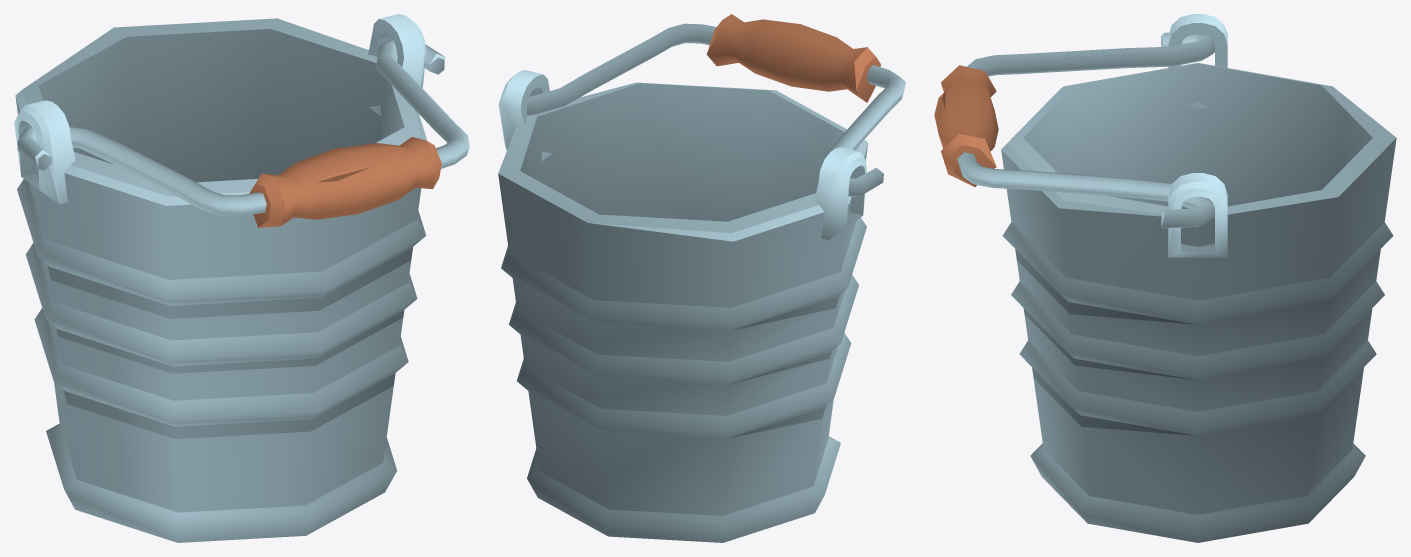
The model's file is bucket.glb.
3 renders of one model, left to right at view 1: azimuth 30°, elevation 25°; view 2: azimuth 150°, elevation 25°; view 3: azimuth 270°, elevation 25°, orthographic. The views are drawn at different scales.
Visible parts, largest first — view 1: bucket, BézierCurve.001; view 2: bucket, BézierCurve.001; view 3: bucket, BézierCurve.001.
Part boxes in pixels (box(x1,y1,x2,y2)): bucket: box(14, 14, 427, 542); BézierCurve.001: box(17, 39, 469, 227); bucket: box(498, 70, 868, 542); BézierCurve.001: box(527, 14, 905, 196); bucket: box(1001, 14, 1396, 542); BézierCurve.001: box(934, 32, 1214, 228).
Bounding box in the file's own units: 1.19 × 1.16 × 1.26.
1 material, 1 textured.
